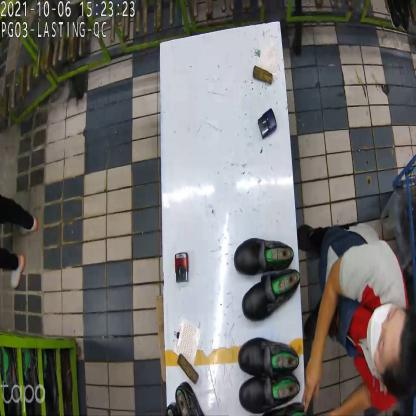shoes: (234, 237, 300, 323), (232, 352, 306, 416)
stamp: (173, 251, 192, 284), (258, 107, 276, 141)
